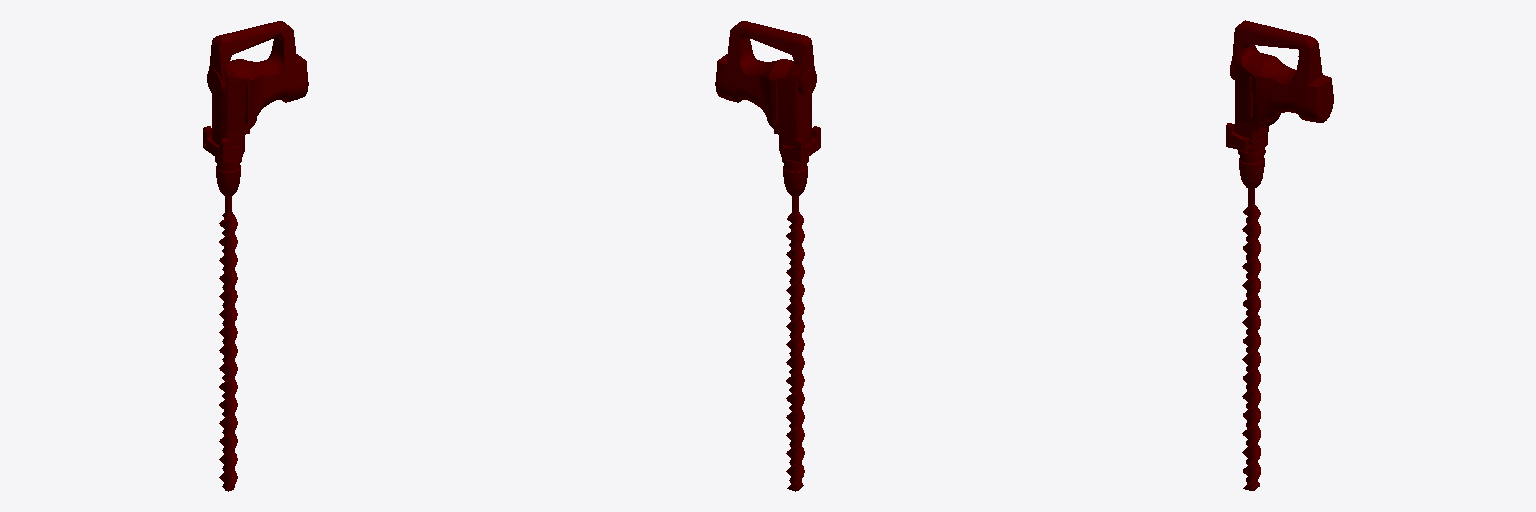
robot.urdf — PRISMM:
<?xml version="1.0"?>
<robot name="PRISMM">

  <link name="base_link">
    <visual>
      <origin rpy="0.0 0 0" xyz="0 0 0"/>
      <geometry>
        <mesh filename="package://state_model/urdf/models/prismm_frame.dae"/>
      </geometry>
    </visual>
  </link>

  <link name="rack">
    <visual>
      <origin rpy="0.0 0 0" xyz="0 0 0"/>
      <geometry>
        <mesh filename="package://state_model/urdf/models/prismm_rack.dae"/>
      </geometry>
    </visual>
  </link>

  <link name="drill">
    <visual>
      <origin rpy="0.0 0 0" xyz="0 0 0"/>
      <geometry>
        <mesh filename="package://state_model/urdf/models/prismm_drill.dae"/>
      </geometry>
    </visual>
  </link>

  <link name="probe">
    <visual>
      <origin rpy="0.0 0 0" xyz="0 0 0"/>
      <geometry>
        <mesh filename="package://state_model/urdf/models/prismm_probe.dae"/>
      </geometry>
    </visual>
  </link>



  <joint name="frame_rack_link" type="prismatic">
    <parent link="base_link"/>
    <child link="rack"/>
    <limit effort="1000.0" lower="-.45" upper=".45" velocity="0.5"/>
    <axis xyz="0 1 0"/>
  </joint>

  <joint name="drill_link" type="prismatic">
    <parent link="rack"/>
    <child link="drill"/>
    <limit effort="1000.0" lower="0" upper="1.5" velocity="0.5"/>
    <axis xyz="0 0 -1"/>
  </joint>

  <joint name="probe_link" type="prismatic">
    <parent link="rack"/>
    <child link="probe"/>
    <limit effort="1000.0" lower="0" upper="1.5" velocity="1.8"/>    
    <axis xyz="0 0 -1"/>
  </joint>

</robot>

--- What the picture shows (computed from the rendered views, not written in the file) ---
Views: 3 orthographic renders of the robot side by side, from view 1: azimuth 30°, elevation 25°; view 2: azimuth 150°, elevation 25°; view 3: azimuth 330°, elevation 25°.
Robot: PRISMM — 4 links, 3 joints (3 prismatic); root link base_link; default pose: all joints at 0.
Visible links, largest first — view 1: drill; view 2: drill; view 3: drill.
Boxes of the visible links, x1,y1,x2,y2 form: drill: (203,21,308,491); drill: (715,21,820,491); drill: (1226,20,1333,490).
Bounding box of the posed robot: 0.2587 × 0.113 × 1.28 m (x, y, z).
Meshes: 4 distinct files referenced, 1 mesh visuals loaded (1 Collada DAE); not drawn: 3 (reference not matched to a file when rendering).